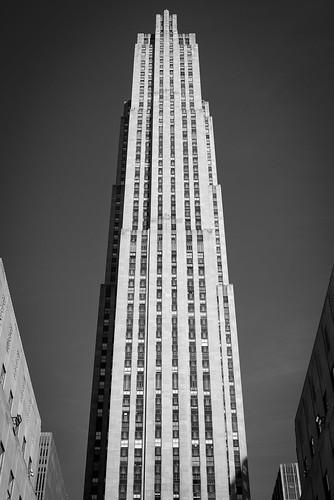building: (79, 6, 254, 499)
